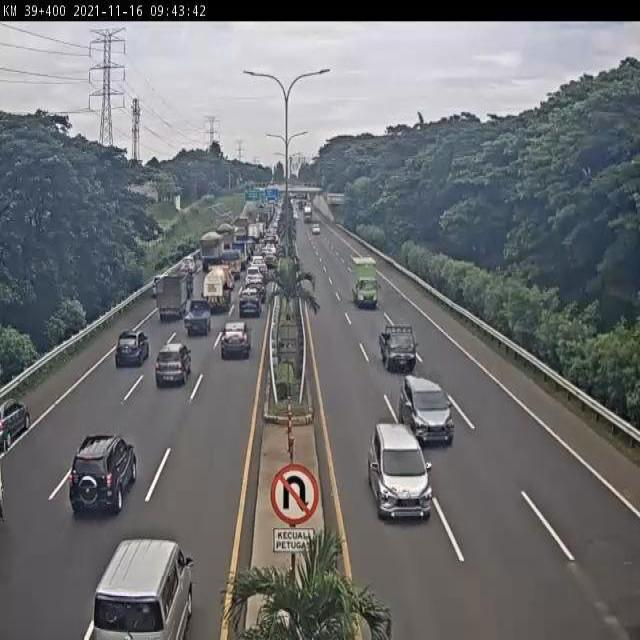ARABA: (89, 536, 198, 640), (365, 418, 435, 530), (63, 430, 138, 530), (396, 373, 458, 448), (377, 317, 420, 373), (0, 395, 40, 453), (153, 339, 192, 389), (112, 324, 150, 369), (219, 318, 253, 362), (183, 297, 213, 340), (237, 289, 263, 319), (244, 275, 267, 304), (177, 252, 198, 276), (244, 265, 264, 288), (251, 253, 266, 272), (264, 251, 278, 268)
KAMYONET: (153, 270, 192, 326), (348, 254, 383, 314), (203, 263, 234, 313), (198, 232, 226, 276), (220, 248, 244, 280), (216, 219, 236, 248)
